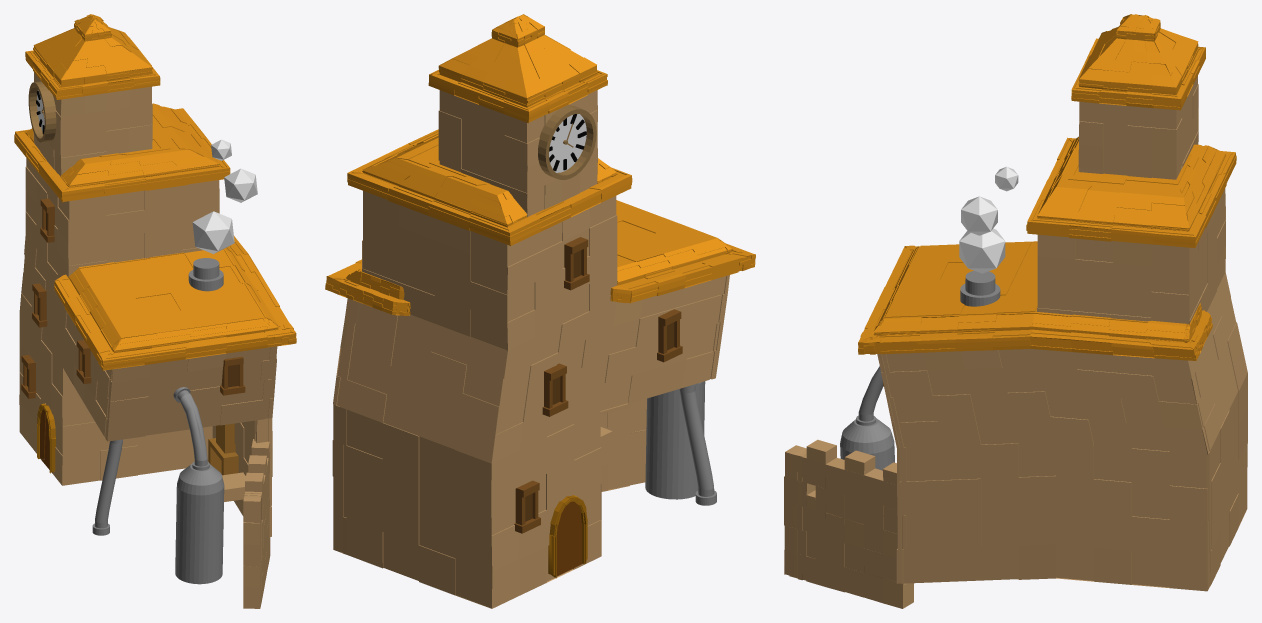
The model's file is Blacksmith_Building.fbx.
3 views of the same model, side by side, from view 1: azimuth 30°, elevation 25°; view 2: azimuth 150°, elevation 25°; view 3: azimuth 270°, elevation 25° (orthographic). The views are drawn at different scales.
Visible parts, largest first — view 1: Cube.597, Cylinder.878, Cube.606, Clock Face.016, Icosphere.068, Cylinder.882, Cube.604, Cylinder.881, Cube.598, Cylinder.884, Icosphere.067, Cube.603 (+5 smaller); view 2: Cube.597, Cylinder.878, Cube.606, Clock Face.016, Cube.598, Cylinder.882, Cube.602, Cube.601, Cube.600, Cube.599; view 3: Cube.597, Cube.606, Cylinder.878, Icosphere.068, Cylinder.884, Icosphere.067, Cylinder.881.
Part boxes in pixels (<box>): Cube.597: <box>14,14,296,536</box>; Cylinder.878: <box>175,464,224,584</box>; Cube.606: <box>243,439,270,608</box>; Clock Face.016: <box>28,81,56,142</box>; Icosphere.068: <box>192,211,234,254</box>; Cylinder.882: <box>92,439,122,535</box>; Cube.604: <box>208,423,238,475</box>; Cylinder.881: <box>173,387,209,470</box>; Cube.598: <box>37,403,55,473</box>; Cylinder.884: <box>188,258,223,291</box>; Icosphere.067: <box>224,168,257,202</box>; Cube.603: <box>220,356,245,395</box>; Cube.597: <box>325,14,755,608</box>; Cylinder.878: <box>645,381,705,499</box>; Cube.606: <box>600,398,646,491</box>; Clock Face.016: <box>538,105,596,179</box>; Cube.598: <box>548,495,587,578</box>; Cylinder.882: <box>679,383,716,505</box>; Cube.602: <box>514,480,540,533</box>; Cube.601: <box>564,237,589,290</box>; Cube.600: <box>542,363,568,416</box>; Cube.599: <box>657,309,682,362</box>; Cube.597: <box>858,14,1247,591</box>; Cube.606: <box>784,439,913,608</box>; Cylinder.878: <box>840,418,894,470</box>; Icosphere.068: <box>959,228,1005,273</box>; Cylinder.884: <box>960,271,1000,306</box>; Icosphere.067: <box>961,196,997,235</box>; Cylinder.881: <box>856,366,883,425</box>.
Size of the model in its own units: 1096 by 2246 by 1706.
